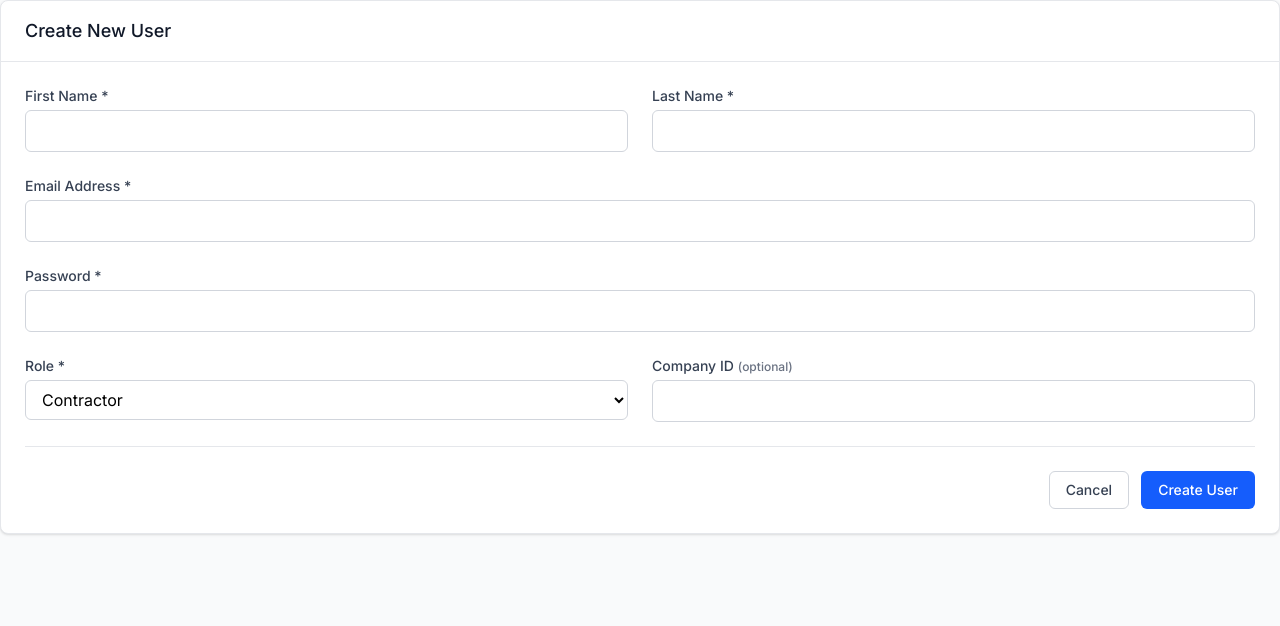
Test case: UserForm › Error Handling › displays API error messages
The width and height of the screenshot is (1280, 626).
Note: Fill and submit form
Type "Test" into the field labelled "First Name *" at (326, 131), box [25, 110, 628, 152]
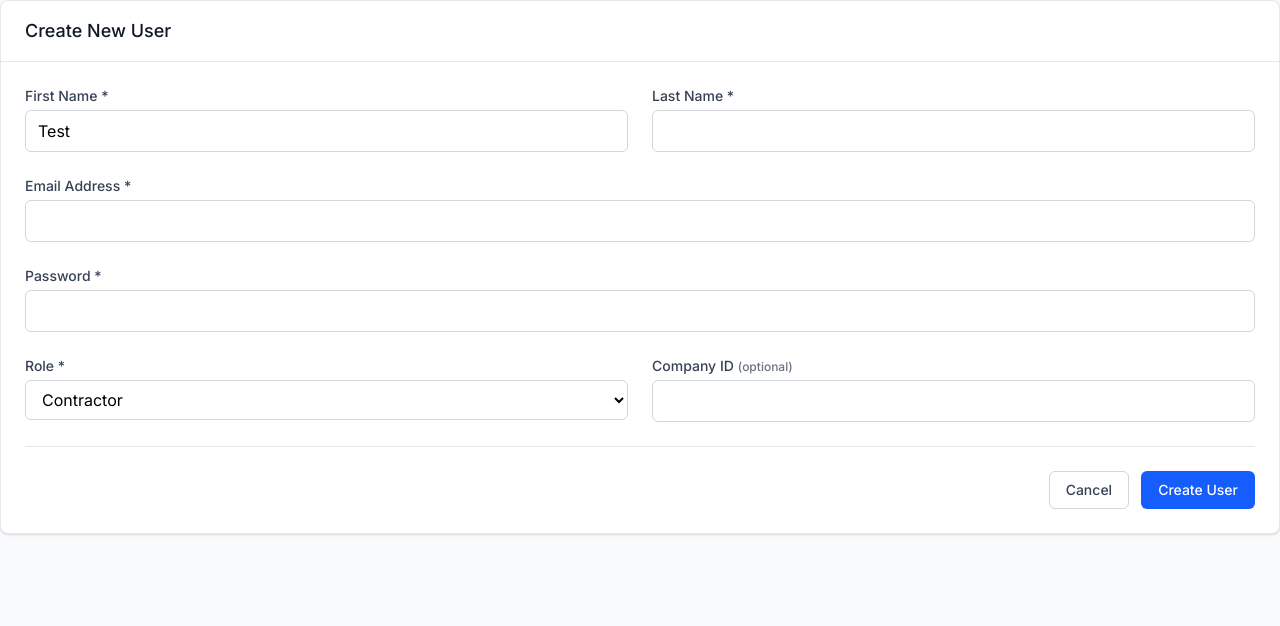
Type "User" into the field labelled "Last Name *" at (954, 131), box [652, 110, 1255, 152]
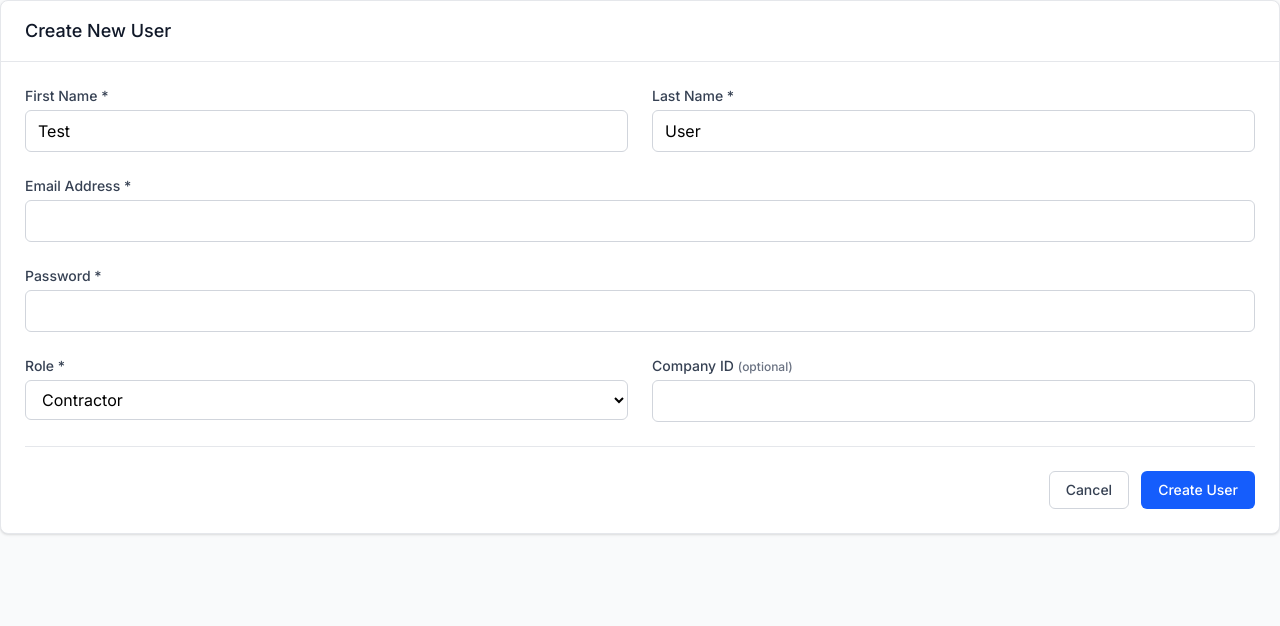
Type "test@example.com" into the field labelled "Email Address *" at (640, 221), box [25, 200, 1255, 242]
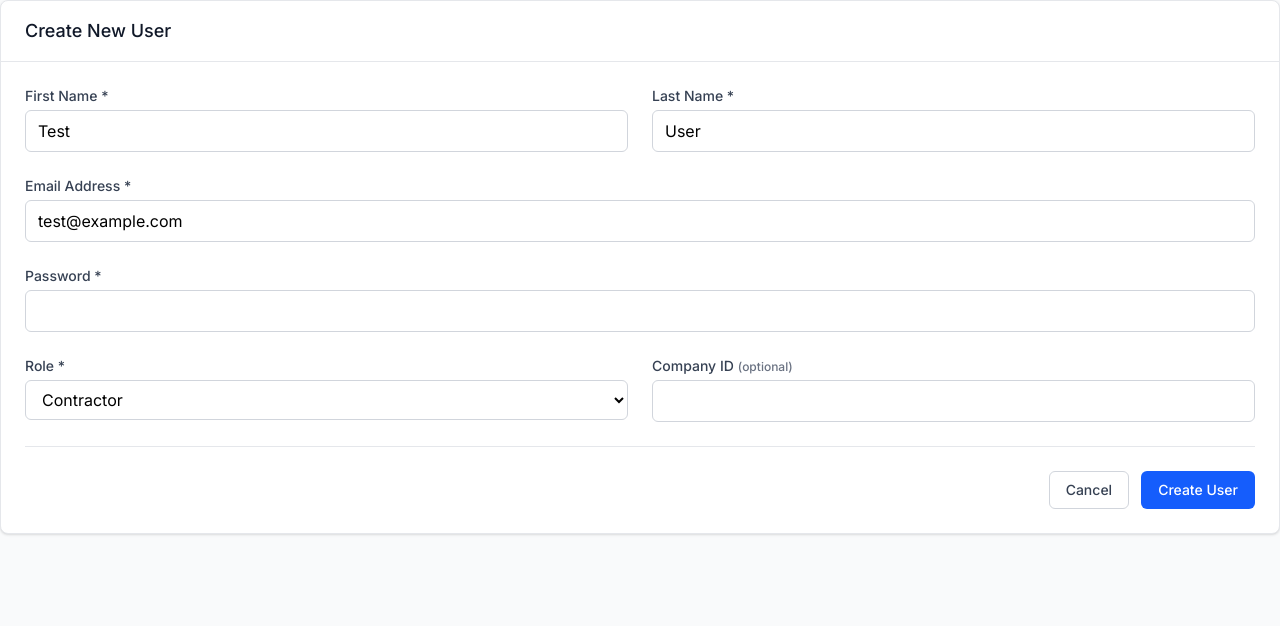
Type "password123" into the password field labelled "Password *" at (640, 311), box [25, 290, 1255, 332]
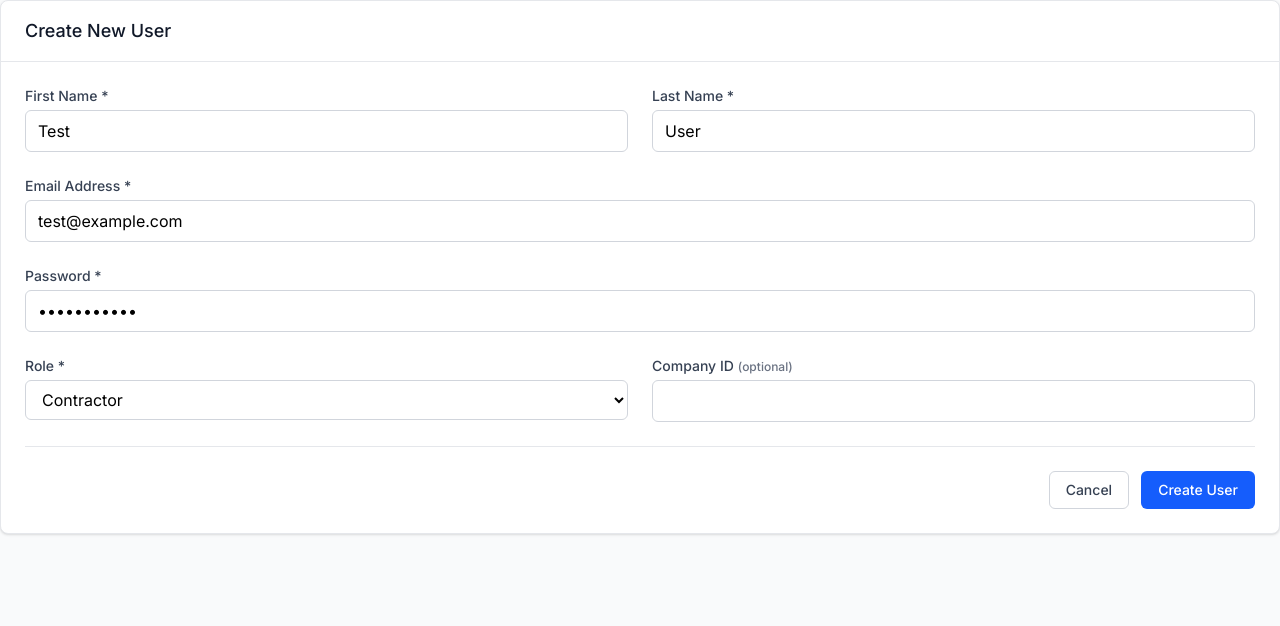
Click the button "Create User" at (1198, 490), box [1141, 471, 1255, 509]
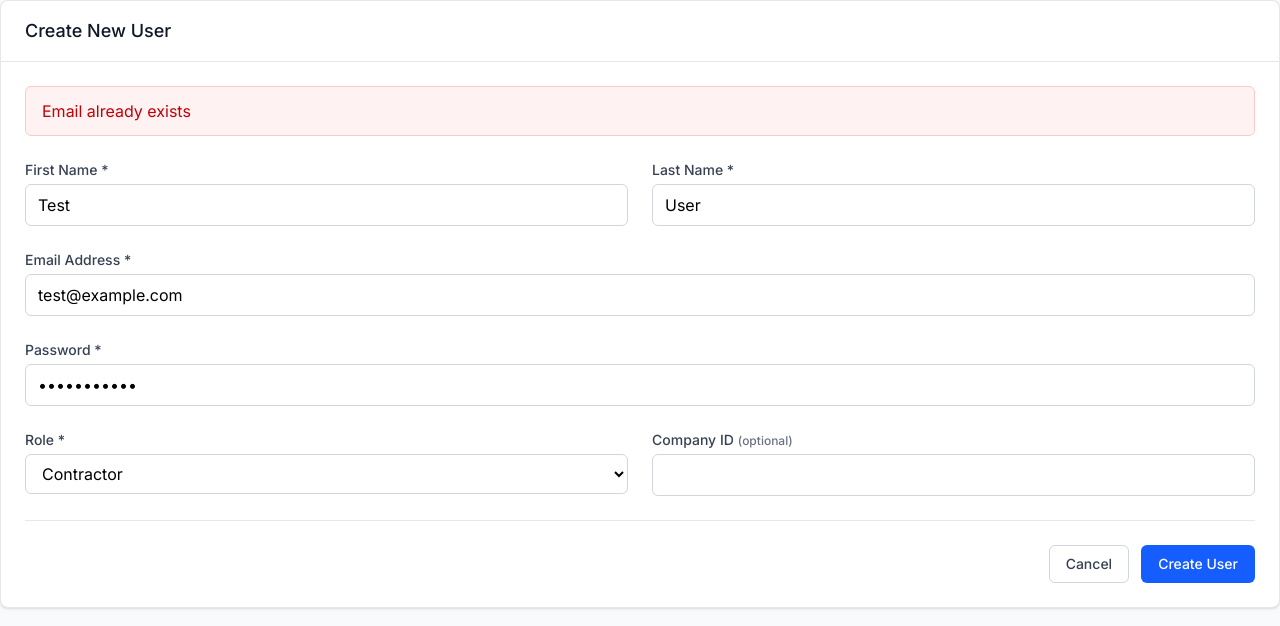
Result: the text "Email already exists" is shown at [25, 86, 1255, 136]
